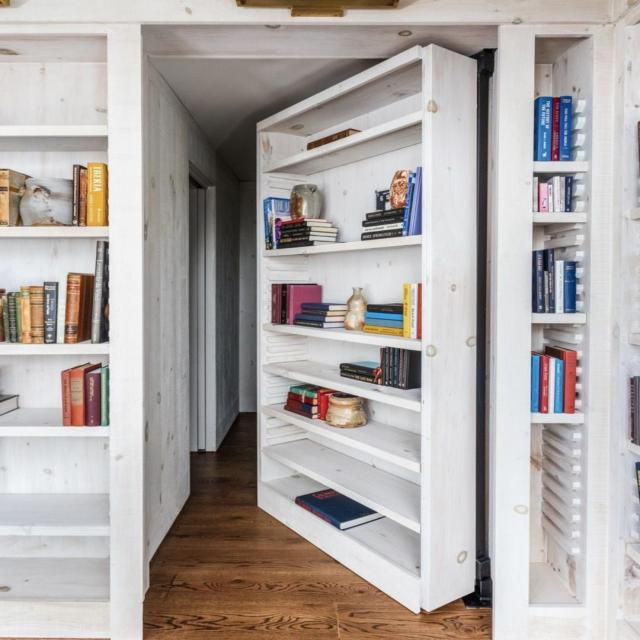door: (142, 24, 498, 640)
